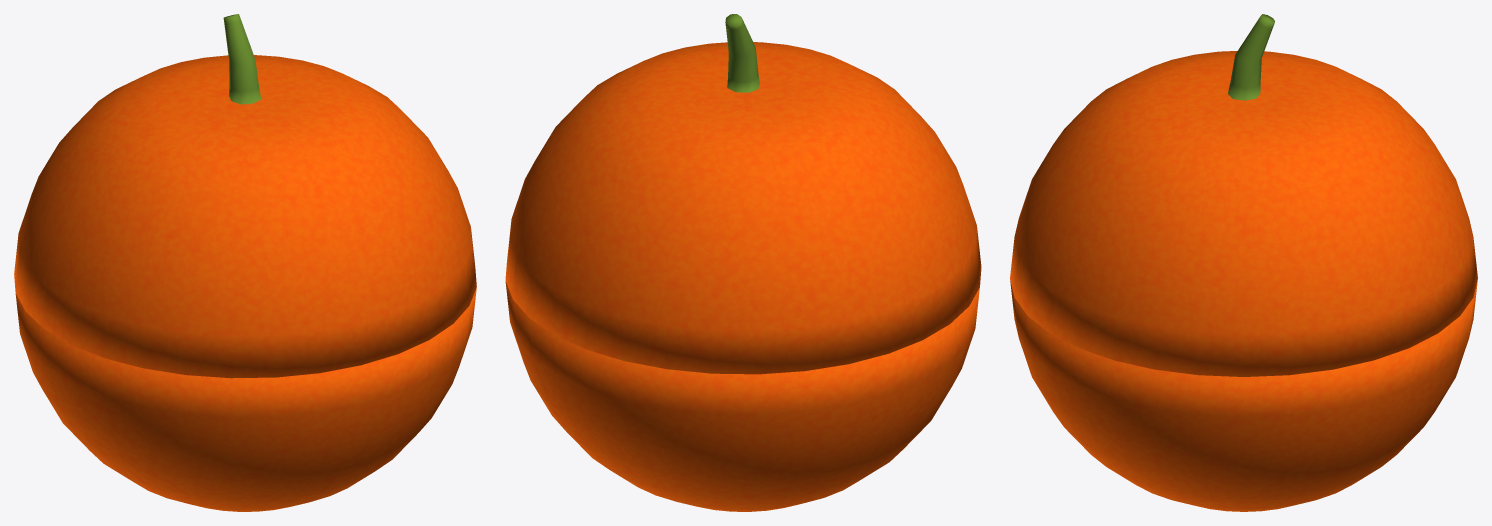
Rendered from OrangeSplit.fbx.
3 renders of one model, left to right at view 1: azimuth 30°, elevation 25°; view 2: azimuth 150°, elevation 25°; view 3: azimuth 270°, elevation 25°, orthographic. The views are drawn at different scales.
Visible parts, largest first — view 1: orange.001, orange.002; view 2: orange.001, orange.002; view 3: orange.001, orange.002.
Boxes of the visible parts, x1=… form: orange.001: x1=14, y1=14, x2=476, y2=378; orange.002: x1=15, y1=287, x2=476, y2=511; orange.001: x1=505, y1=14, x2=981, y2=374; orange.002: x1=505, y1=281, x2=979, y2=511; orange.001: x1=1010, y1=14, x2=1477, y2=376; orange.002: x1=1010, y1=279, x2=1477, y2=511.
Size of the model in its own units: 568 by 635 by 568.
Materials: 2 (2 with a texture image).
